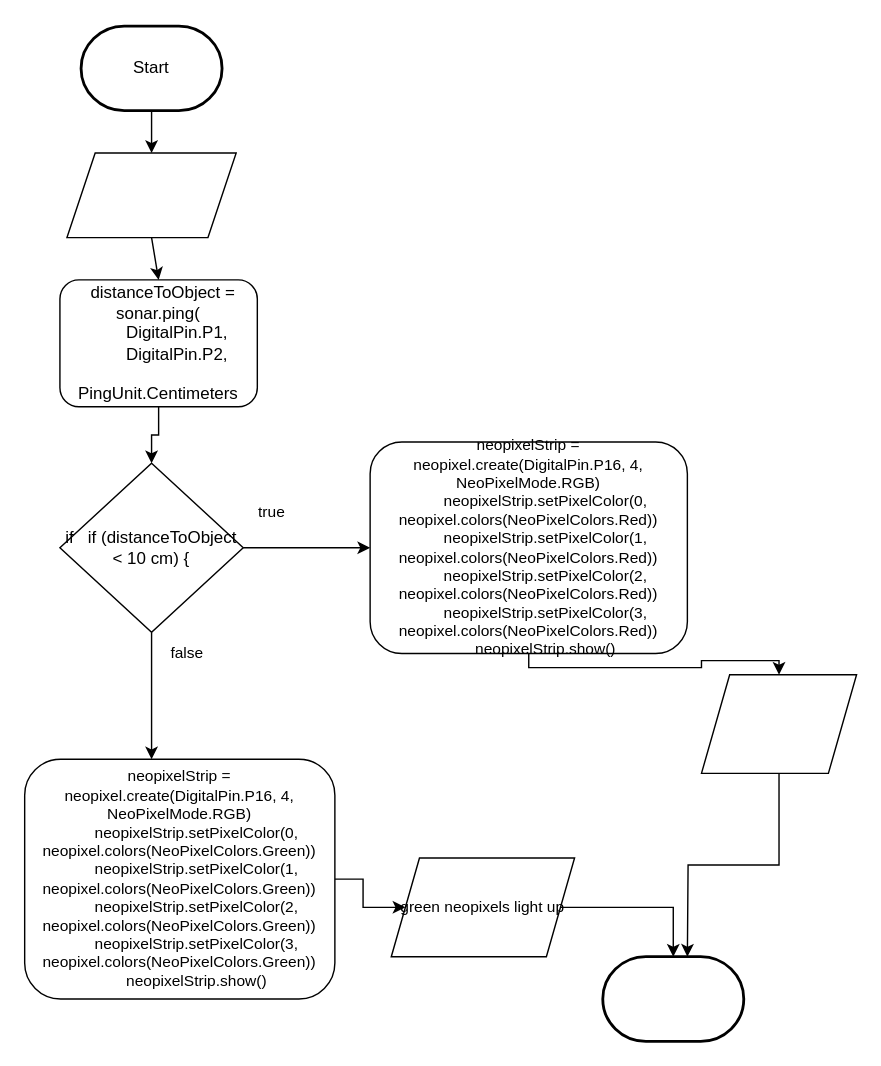
The diagram is 881 pixels wide and 1066 high, and some of its shapes have lost their labels. The centre of each missing label's shape, as x and y in pixels:
"button A is pressed" goes at (x=151, y=195).
"red Neopixels light up" goes at (x=778, y=723).
"Stop" goes at (x=672, y=998).
